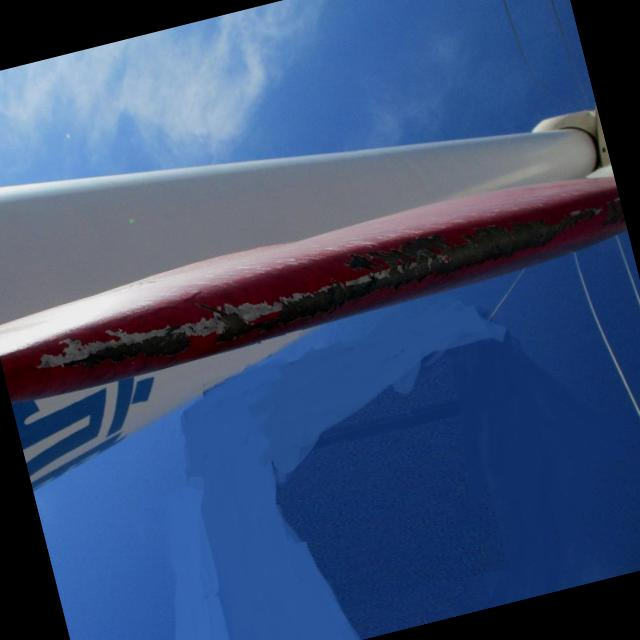corrosion: (30, 196, 608, 392)
